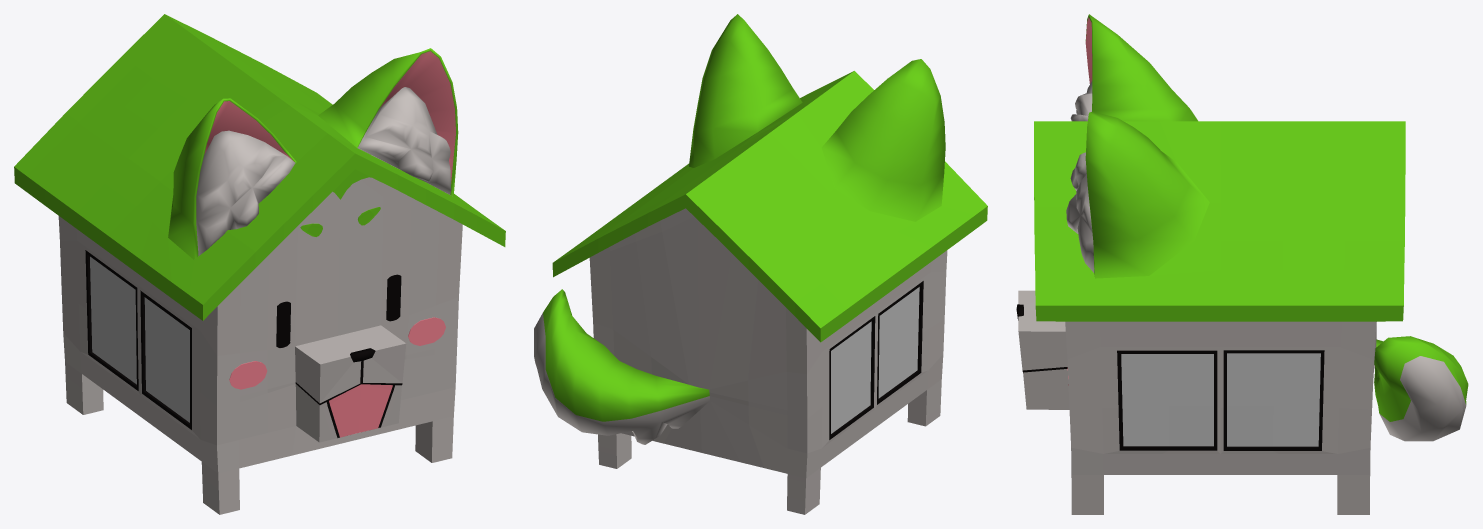
Rendered from sumainu.obj.
3 renders of one model, left to right at view 1: azimuth 30°, elevation 25°; view 2: azimuth 150°, elevation 25°; view 3: azimuth 270°, elevation 25°, orthographic. The views are drawn at different scales.
Visible parts, largest first — view 1: sumainu_立方体; view 2: sumainu_立方体; view 3: sumainu_立方体.
Part boxes in pixels (left/top/right/bottom): sumainu_立方体: left=14, top=14, right=505, bottom=514; sumainu_立方体: left=534, top=14, right=987, bottom=514; sumainu_立方体: left=1016, top=14, right=1468, bottom=514.
Size of the model in its own units: 2.22 by 2.74 by 2.83.
